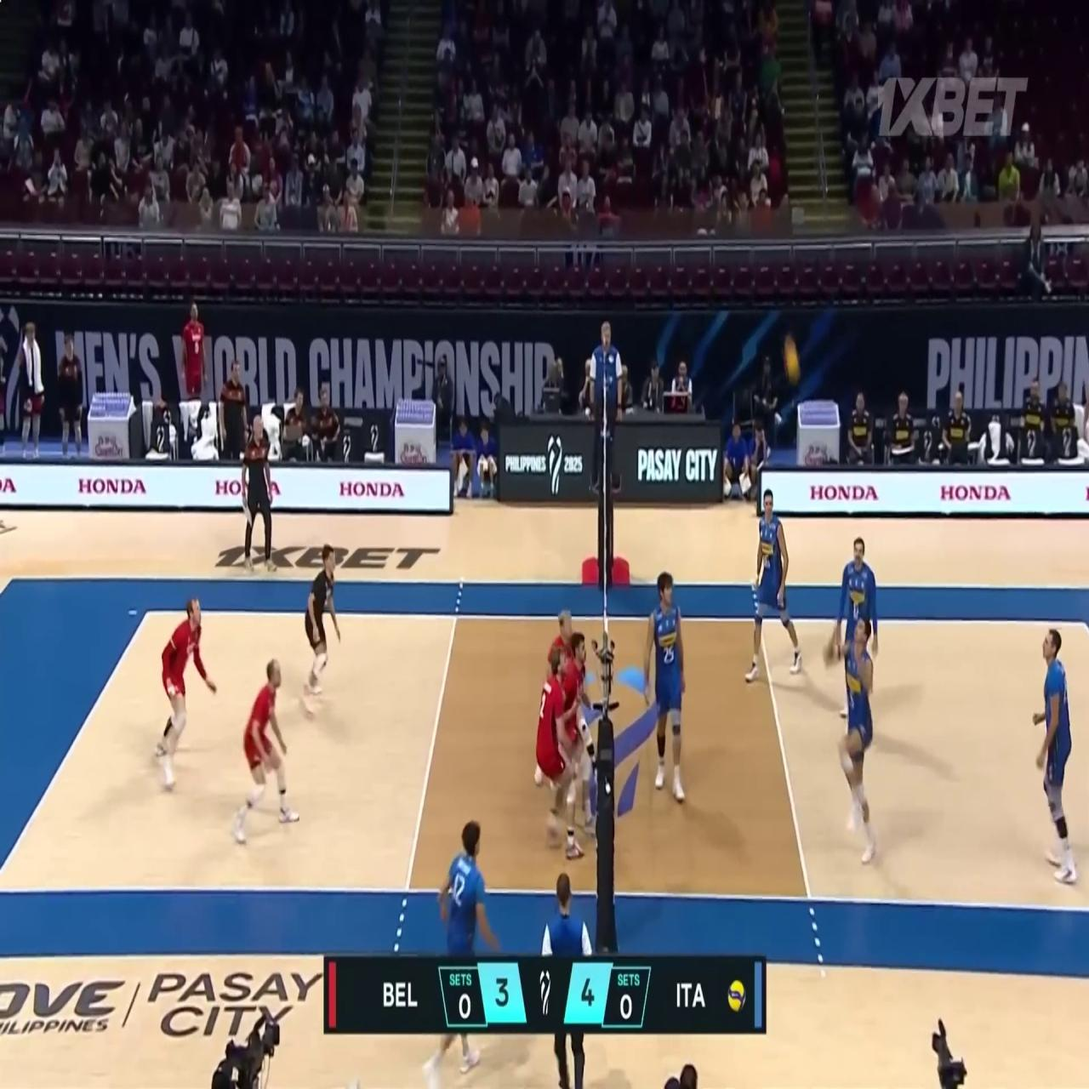ball: (781, 340, 800, 379)
